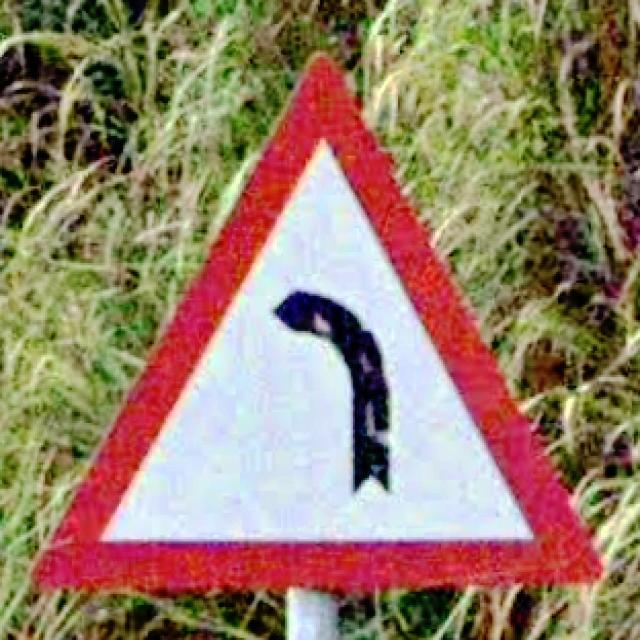leftbend: (33, 55, 607, 596)
